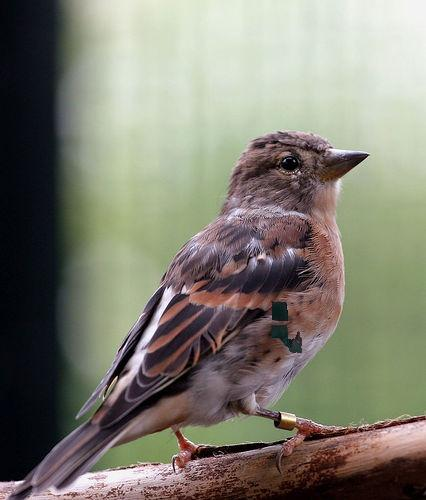tampered: (272, 302, 302, 353)
